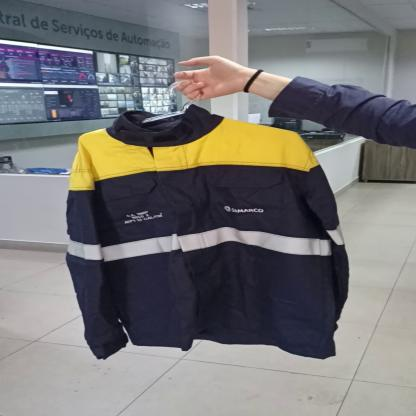C_eletrica: (57, 112, 355, 361)
